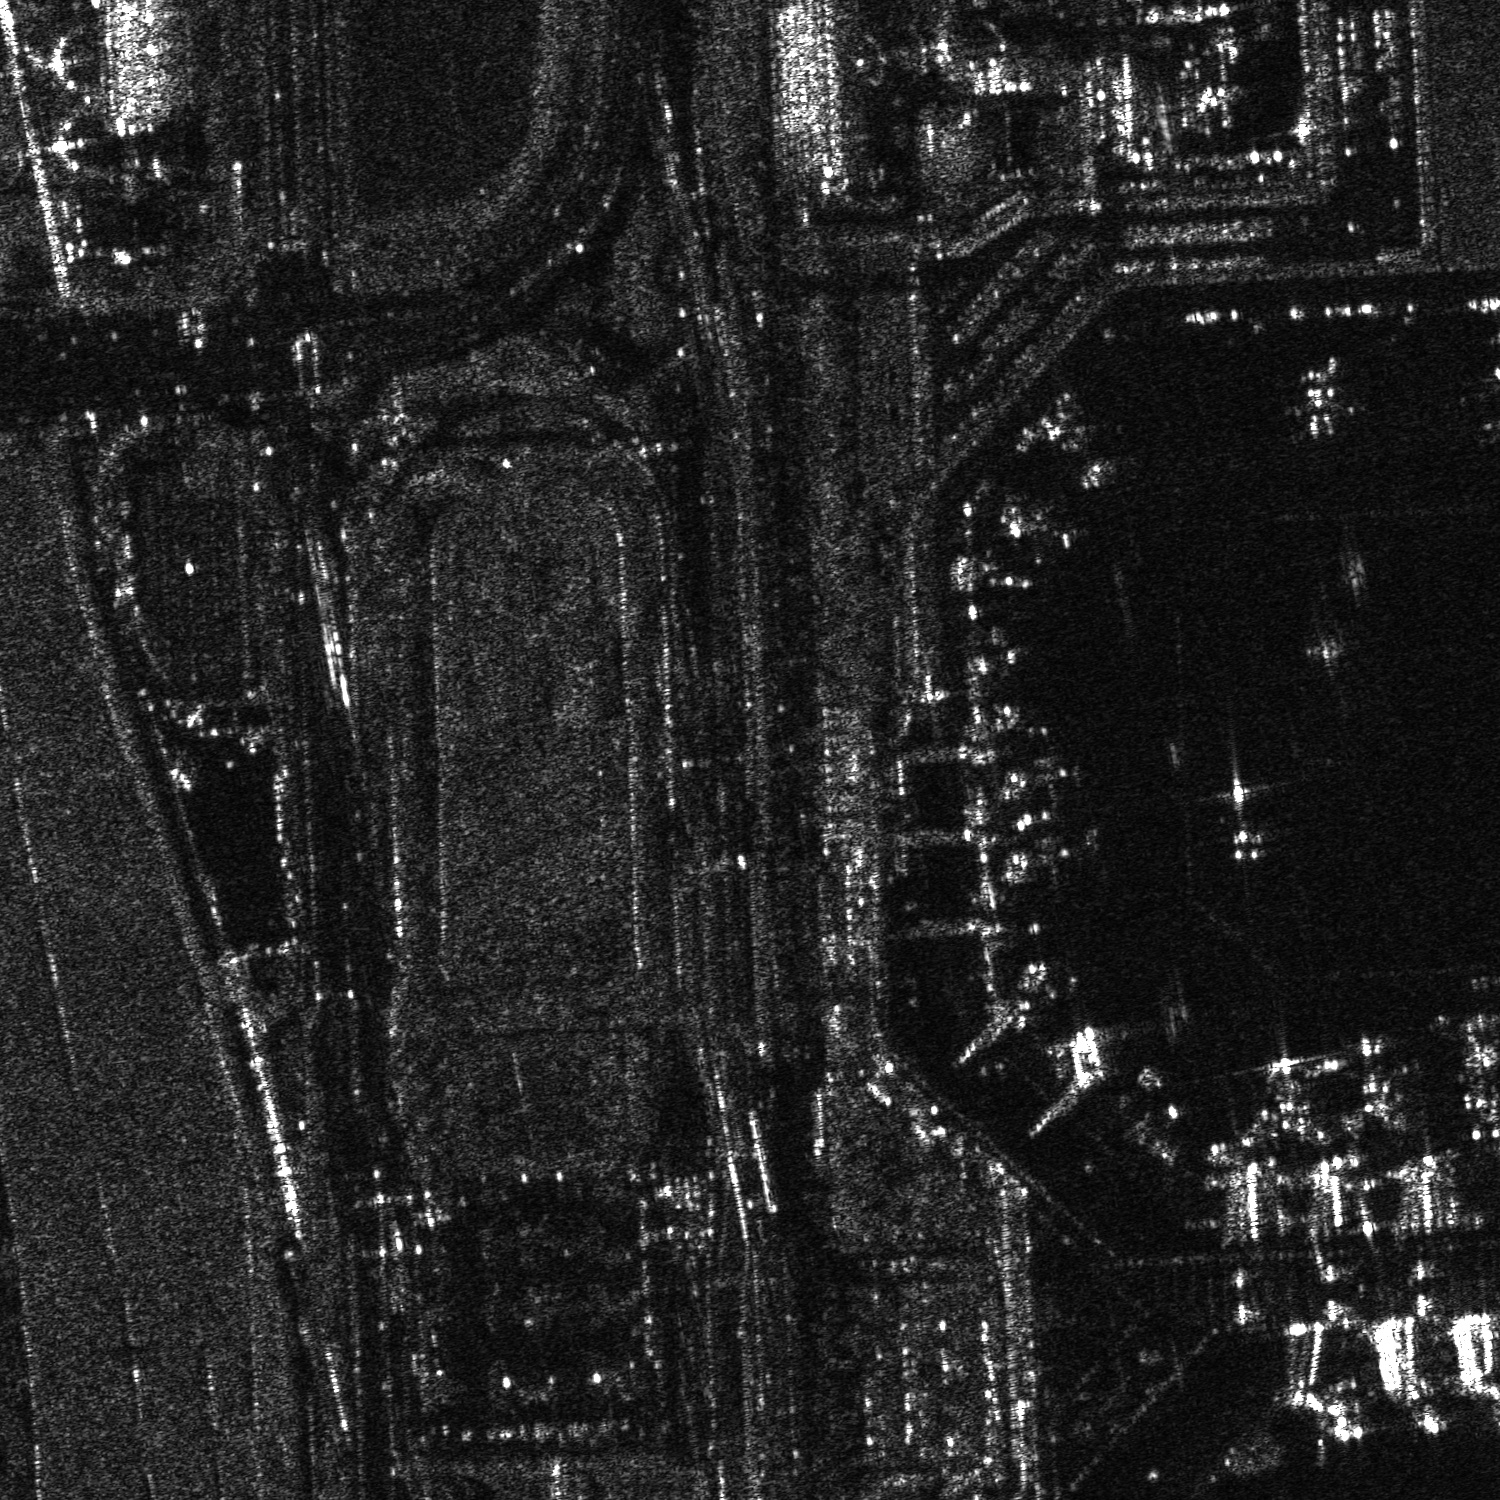A220: (1043, 413, 1135, 495), (993, 495, 1091, 570), (1010, 823, 1113, 893), (1254, 1045, 1326, 1146), (1004, 735, 1093, 815)
A320/321: (1455, 1010, 1499, 1125)
Boeing737: (1279, 359, 1370, 442), (1216, 775, 1284, 867)
other: (1345, 1032, 1408, 1133)
